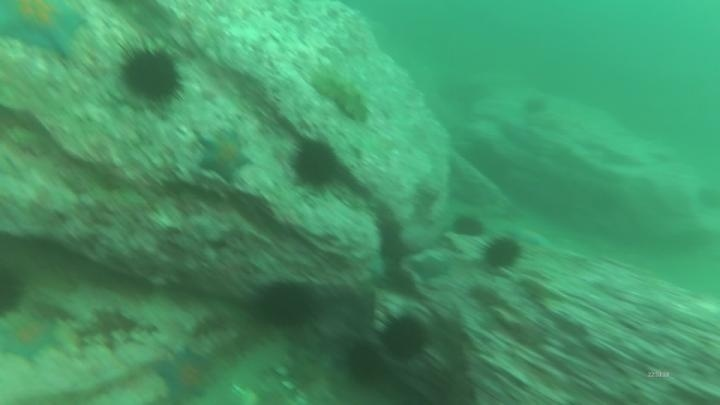echinus: (114, 40, 187, 108), (246, 277, 322, 333), (288, 136, 341, 191), (378, 311, 432, 364), (342, 339, 387, 387), (480, 234, 524, 272), (0, 262, 29, 319), (449, 212, 487, 240), (520, 94, 550, 119)
holothurian: (308, 66, 374, 124)
starfish: (0, 1, 89, 61), (150, 345, 219, 404), (0, 310, 64, 368), (194, 127, 254, 185), (406, 251, 453, 284), (512, 225, 555, 251)
